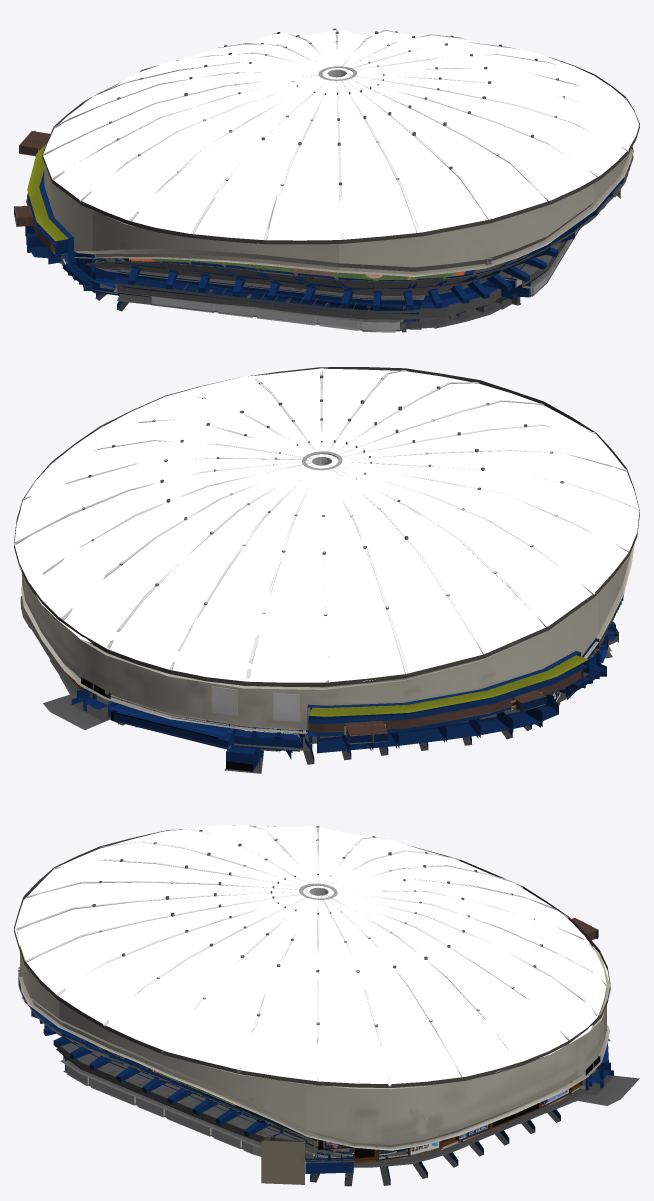
File: Stadium_TB.glb
3 views of the same model, one above another, from view 1: azimuth 30°, elevation 25°; view 2: azimuth 150°, elevation 25°; view 3: azimuth 270°, elevation 25° (orthographic). The views are drawn at different scales.
Parts seen in each view (by area): view 1: Stadium_TB; view 2: Stadium_TB; view 3: Stadium_TB.
Boxes of the visible parts, x1=… form: Stadium_TB: x1=14, y1=28, x2=639, y2=332; Stadium_TB: x1=14, y1=367, x2=639, y2=773; Stadium_TB: x1=14, y1=825, x2=639, y2=1186.
Bounding box in the file's own units: 211 × 69.28 × 216.
8 materials, 8 textured.
